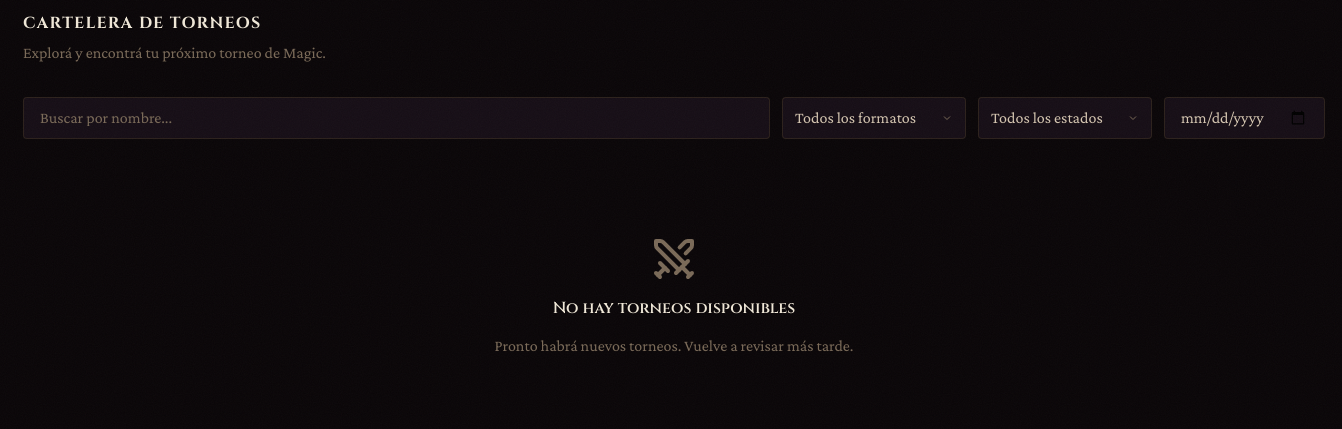
Scenario: Cartelera › permite limpiar los filtros cuando no hay coincidencias
Type "inexistente" into the field named "Buscar torneos por nombre".
click(396, 118); type("inexistente")  # box left=23, top=97, right=770, bottom=139
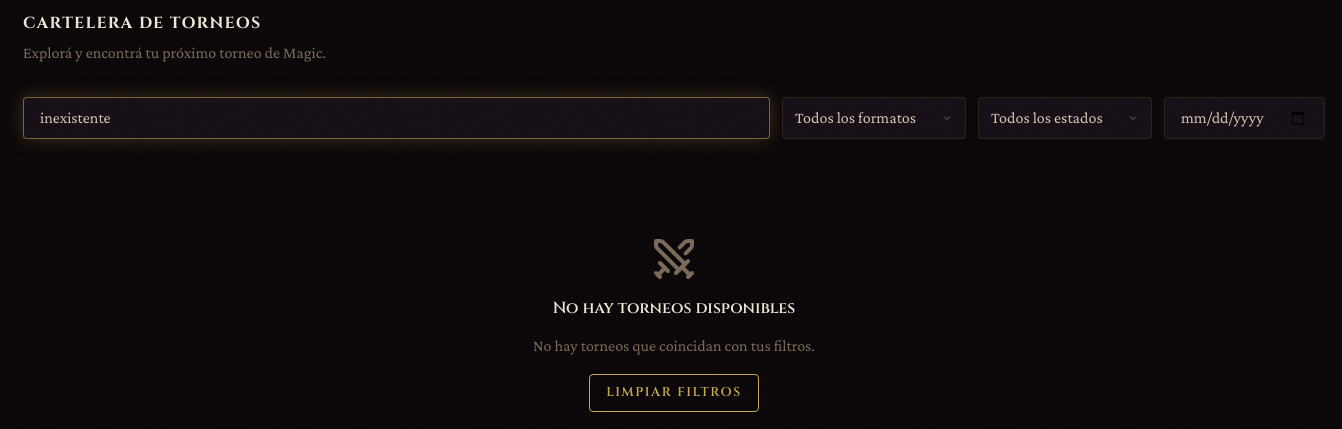
Expected: the text "No hay torneos que coincidan con tus filtros." is shown, left=533, top=334, right=815, bottom=358
Click the button "Limpiar filtros".
click(674, 393)  # box left=589, top=374, right=759, bottom=412
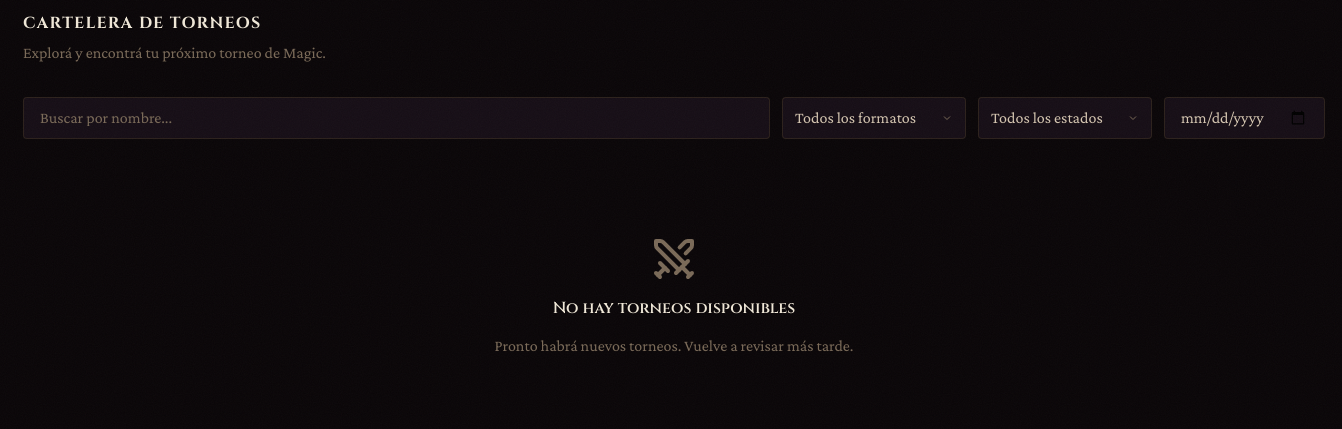
Expected: the field named "Buscar torneos por nombre" is empty, left=23, top=97, right=770, bottom=139
